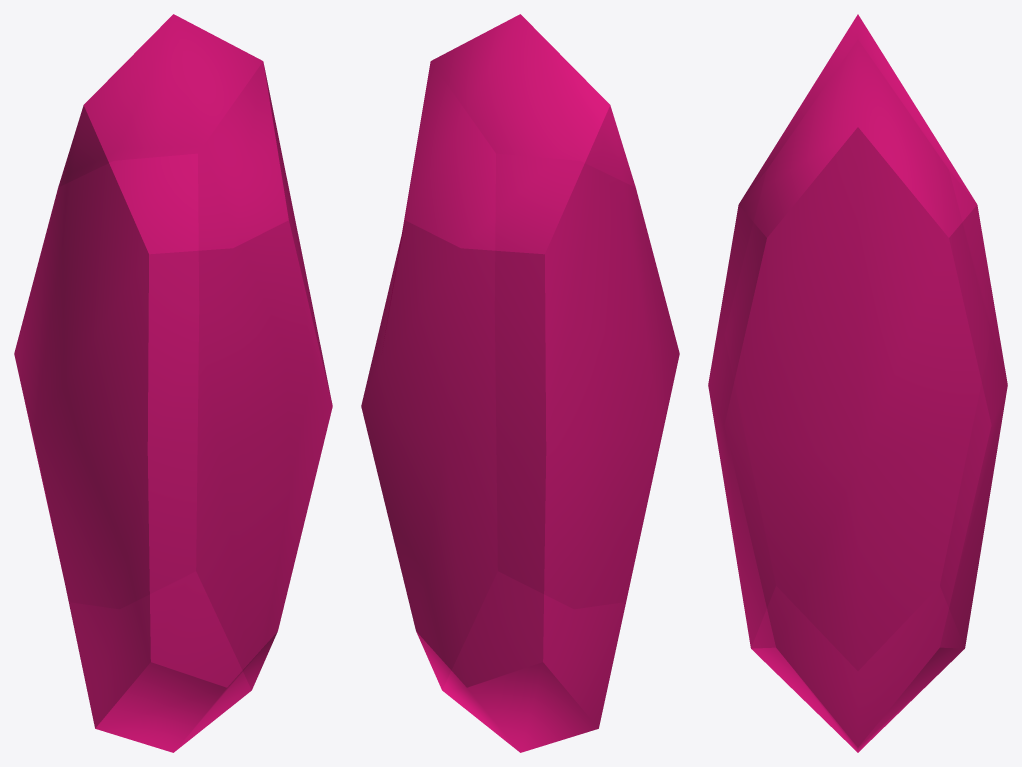
The model's file is model_crystal03.fbx.
The picture shows the model from 3 angles, left to right: view 1: azimuth 30°, elevation 25°; view 2: azimuth 150°, elevation 25°; view 3: azimuth 270°, elevation 25°; orthographic projection.
Parts seen in each view (by area): view 1: pCube23; view 2: pCube23; view 3: pCube23.
Part boxes in pixels (x1=…): pCube23: x1=14, y1=14, x2=332, y2=752; pCube23: x1=361, y1=14, x2=679, y2=752; pCube23: x1=708, y1=14, x2=1007, y2=752.
Size of the model in its own units: 12.65 by 31.84 by 11.7.
